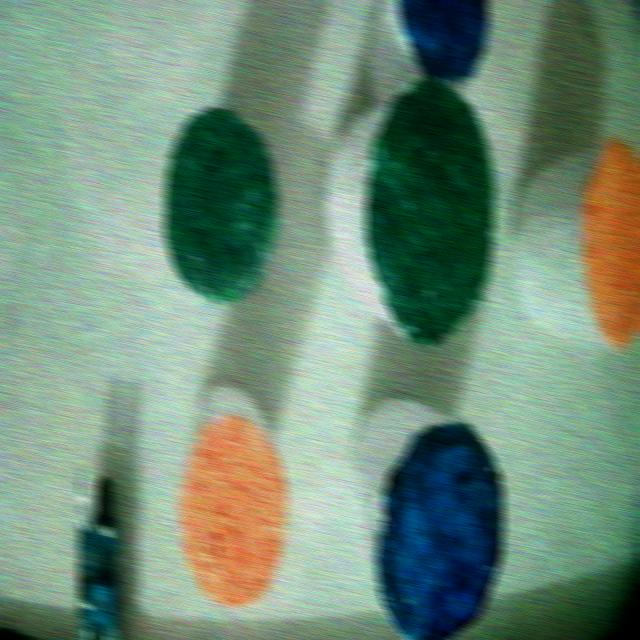blue: (351, 401, 487, 576), (390, 0, 489, 80)
green: (364, 80, 495, 344), (162, 107, 279, 302)
yellow: (178, 420, 287, 605), (582, 136, 639, 348)
